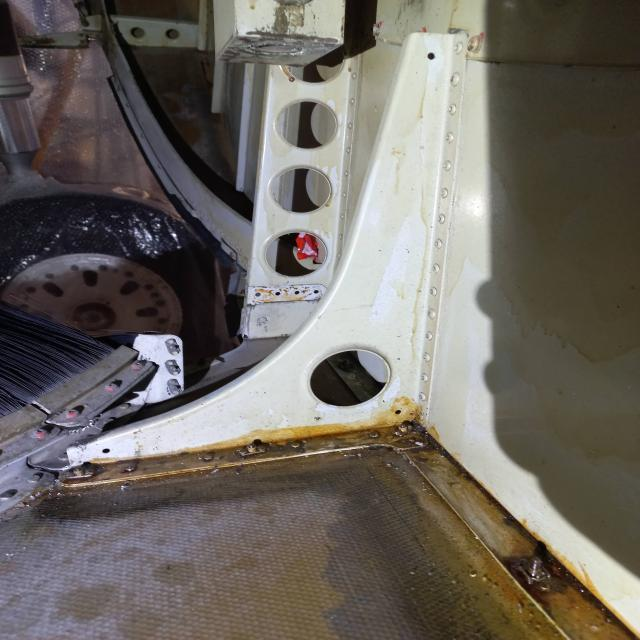Missing Fastener: (388, 397, 406, 419), (95, 443, 116, 459), (426, 48, 442, 64), (252, 289, 264, 299), (272, 290, 284, 298), (310, 287, 322, 295), (291, 288, 301, 296)
